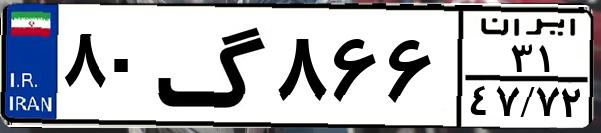0: (110, 28, 156, 98)
1: (537, 27, 568, 80)
2: (560, 70, 590, 125)
3: (508, 27, 537, 80)
4: (470, 70, 495, 125)
6: (385, 28, 445, 110), (330, 28, 385, 110)
7: (495, 70, 520, 125), (535, 70, 560, 125)
8: (270, 28, 330, 110), (57, 26, 110, 100)
گ: (156, 12, 270, 120)
